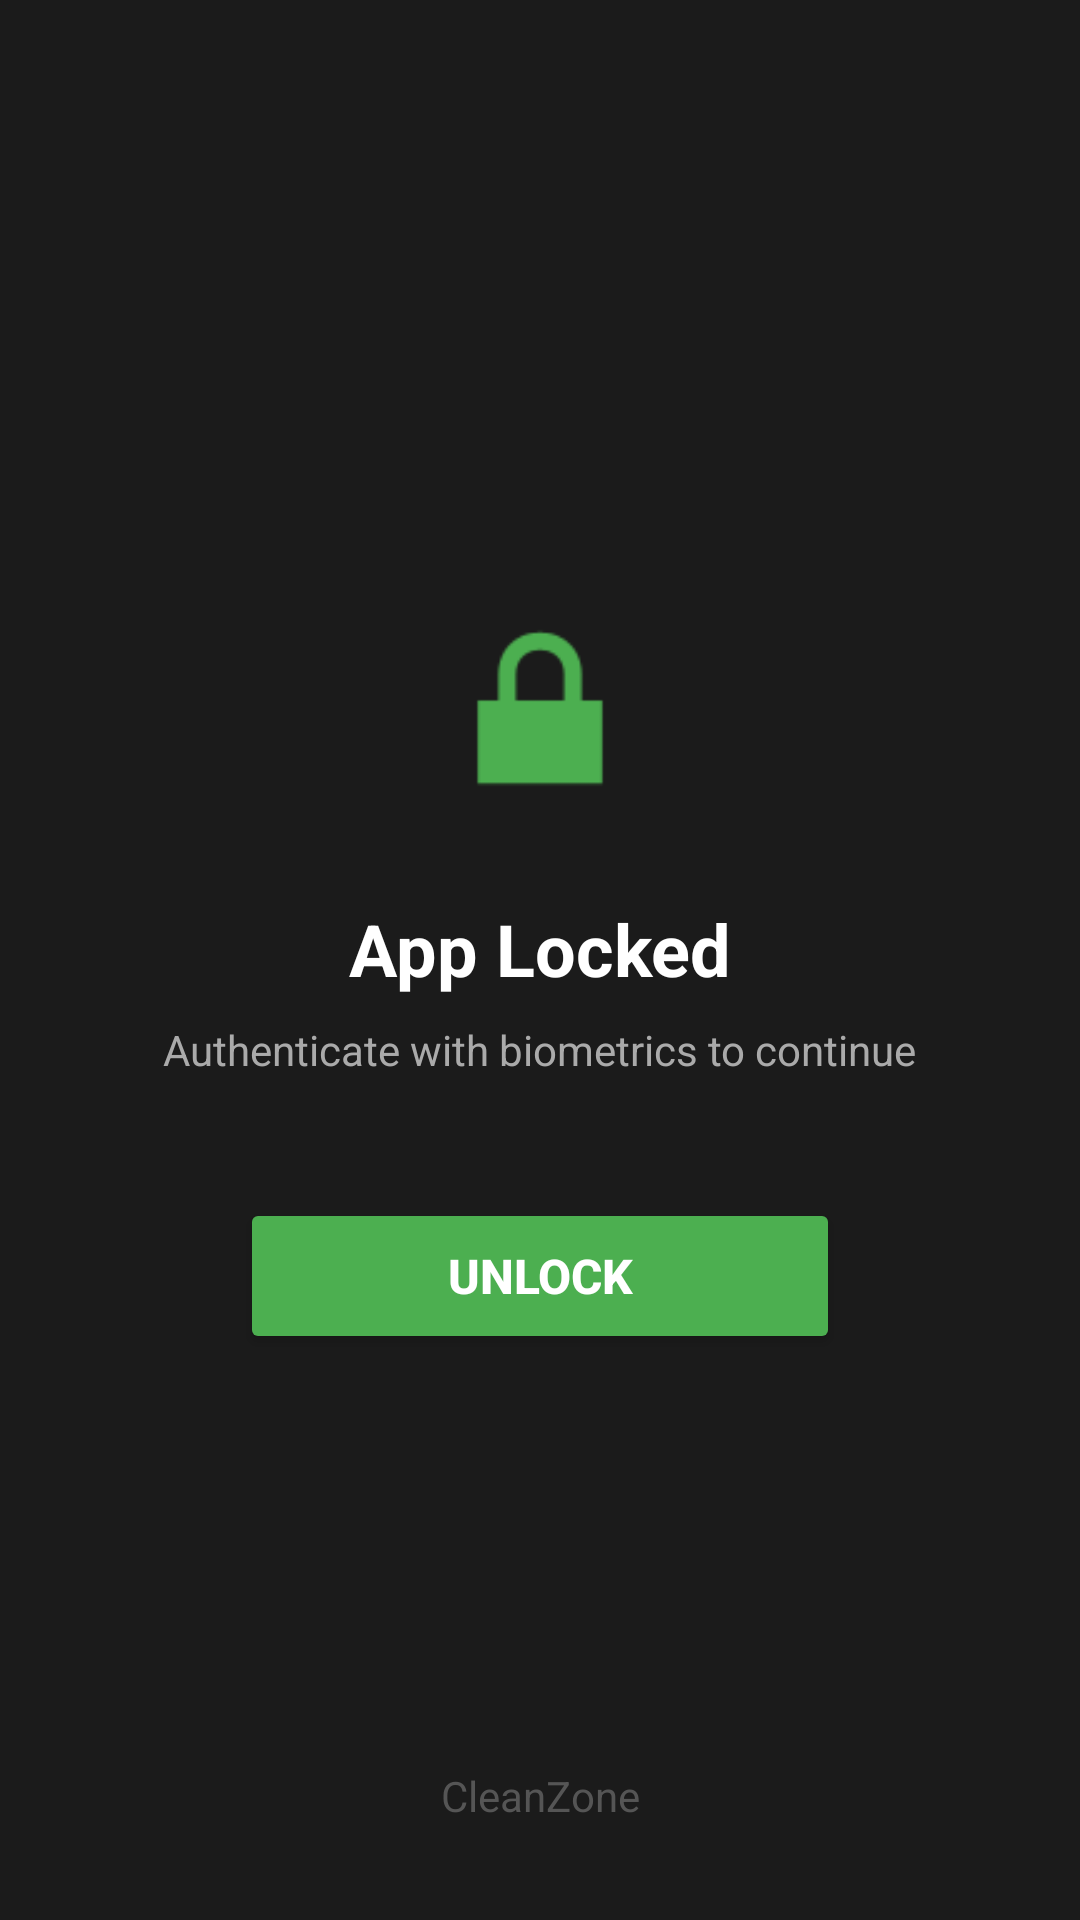

Where icons sit on this 1080px x 1920px app screen, as rect(x1, y1, x2, y2):
Lock icon: rect(477, 631, 603, 785)
